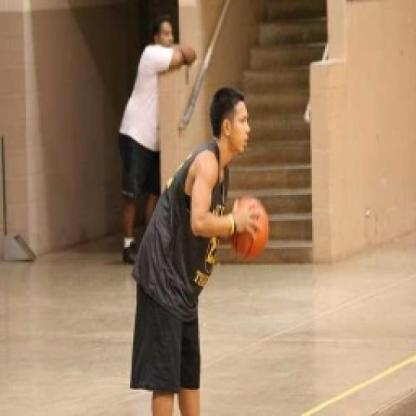basketball: (225, 195, 272, 262)
